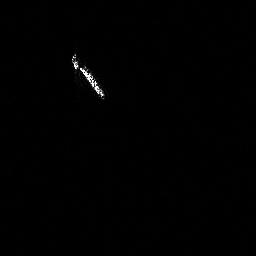ship: (67, 49, 109, 103)
